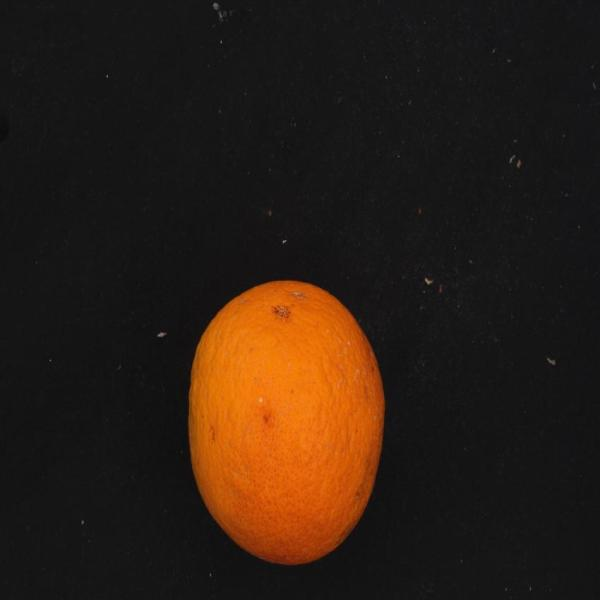Otros defectos: (172, 266, 390, 574)
